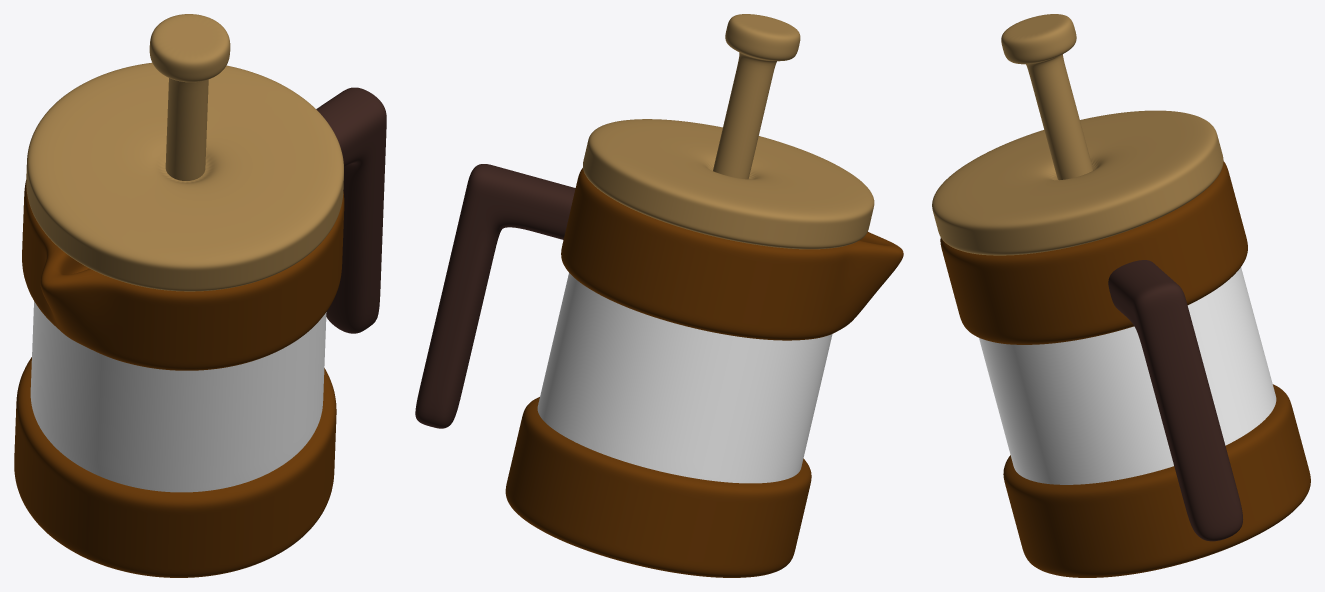
File: french-press-coffee.glb
3 views of the same model, side by side, from view 1: azimuth 30°, elevation 25°; view 2: azimuth 150°, elevation 25°; view 3: azimuth 270°, elevation 25° (orthographic). The views are drawn at different scales.
Parts seen in each view (by area): view 1: Cylinder.007, Cylinder.005, Cylinder.003, Cylinder.006, Cube, Cylinder.008; view 2: Cylinder.005, Cylinder.006, Cylinder.003, Cylinder.007, Cube, Cylinder.008; view 3: Cylinder.005, Cylinder.007, Cylinder.003, Cylinder.006, Cube, Cylinder.008.
Part boxes in pixels (x1,y1,x2,y2): Cylinder.007: [26, 62, 343, 291]; Cylinder.005: [30, 301, 326, 492]; Cylinder.003: [14, 357, 336, 577]; Cylinder.006: [22, 180, 344, 370]; Cube: [316, 87, 386, 333]; Cylinder.008: [149, 14, 230, 180]; Cylinder.005: [537, 273, 832, 483]; Cylinder.006: [561, 168, 903, 340]; Cylinder.003: [505, 397, 811, 577]; Cylinder.007: [583, 119, 874, 249]; Cube: [415, 164, 575, 428]; Cylinder.008: [713, 14, 800, 179]; Cylinder.005: [979, 267, 1276, 484]; Cylinder.007: [932, 110, 1223, 255]; Cylinder.003: [1003, 384, 1310, 577]; Cylinder.006: [940, 161, 1247, 344]; Cube: [1108, 260, 1242, 541]; Cylinder.008: [1001, 14, 1092, 179].
Size of the model in its own units: 1.81 by 2.24 by 1.5.
